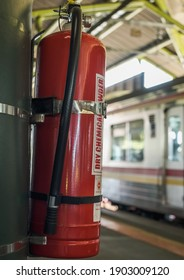fire_extinguisher: (29, 0, 107, 259)
